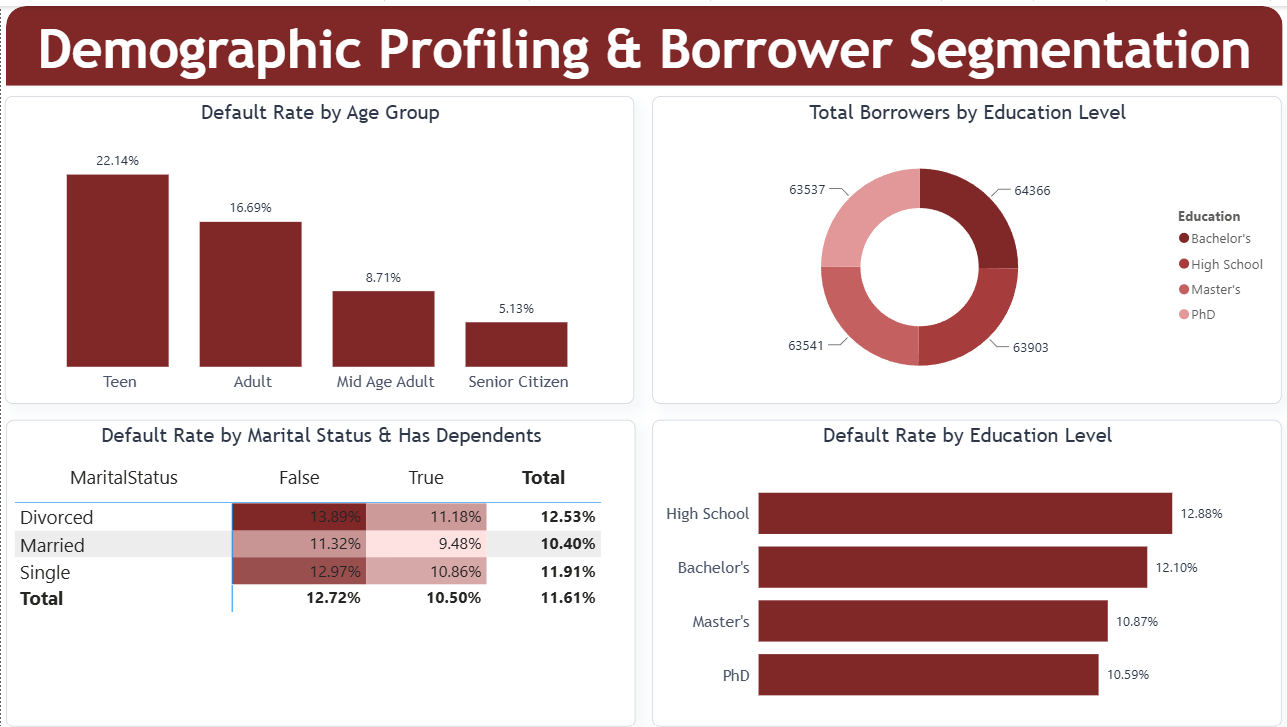

This screenshot's page, from the dashboard's own definition file:
{"tool":"powerbi","page":{"name":"Demographic Profiling & Borrower Segmentation","canvas":[1280,720],"ordinal":2},"visuals":[{"type":"shape","box":[4.7,0,1270.7,79.6],"z":0},{"type":"clusteredBarChart","title":"Default Rate by Education Level","fields":{"Category":["Loan_default.Education"],"Y":["Measures Table 1.Default Rate"]},"box":[647.5,411.2,626.5,306.5],"z":1000},{"type":"donutChart","title":"Total Borrowers by Education Level","fields":{"Y":["Measures Table 1.Total Borrowers"],"Category":["Loan_default.Education"]},"box":[648.1,89.3,626.5,306.5],"z":2000},{"type":"columnChart","title":"Default Rate by Age Group","fields":{"Y":["Measures Table 1.Default Rate"],"Category":["Loan_default.Age_groups"]},"box":[3.7,89.3,626.5,306.5],"z":3000},{"type":"pivotTable","title":"Default Rate by Marital Status & HasCoSigner","fields":{"Rows":["Loan_default.MaritalStatus"],"Columns":["Loan_default.HasDependents"],"Values":["Measures Table 1.Default Rate"]},"box":[5,411.2,626.2,306.2],"z":4000}]}

Visuals, with their boxes in screenshot pixels (x1, y1, x2, y2), scaled from the page's 1280x720 canvas onto the 1287x727 screenshot:
shape: <box>5,0,1282,80</box>
"Default Rate by Education Level" clusteredBarChart: <box>651,415,1281,725</box>
"Total Borrowers by Education Level" donutChart: <box>652,90,1282,400</box>
"Default Rate by Age Group" columnChart: <box>4,90,634,400</box>
"Default Rate by Marital Status & HasCoSigner" pivotTable: <box>5,415,635,724</box>
